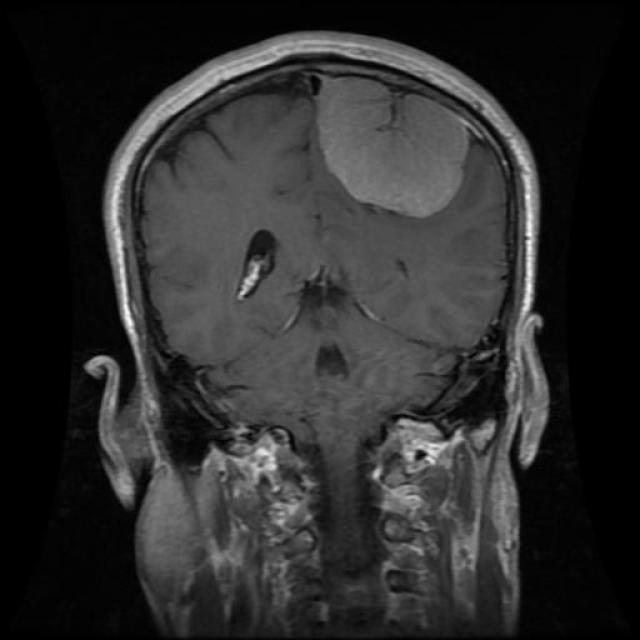meningioma: (318, 79, 469, 220)
